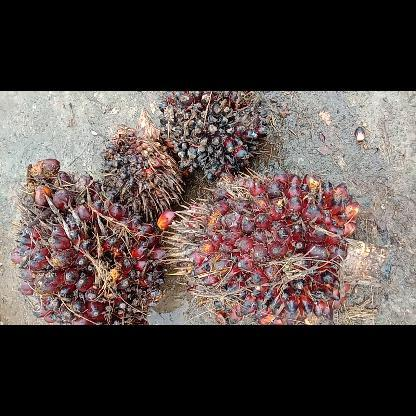Kurang masak: (10, 158, 166, 324)
TBS abnormal: (158, 90, 270, 182), (102, 108, 184, 220)
TBS masak: (163, 170, 387, 324)
